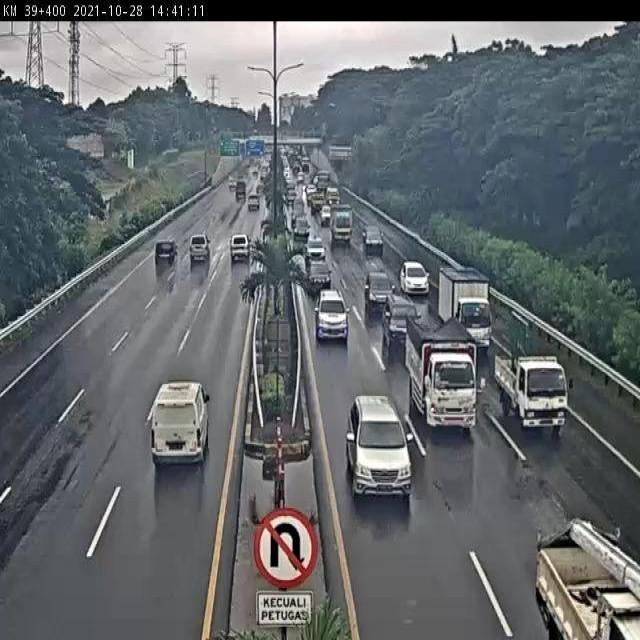car: (346, 395, 413, 500), (149, 380, 210, 467), (383, 293, 423, 352), (313, 287, 350, 345), (364, 272, 394, 309), (400, 261, 431, 296), (307, 258, 332, 290)
mid truck: (154, 237, 179, 268), (189, 232, 213, 261), (230, 232, 252, 259)
truck-m-: (407, 316, 477, 428)
truck-s-: (494, 352, 567, 433), (439, 266, 493, 354)
